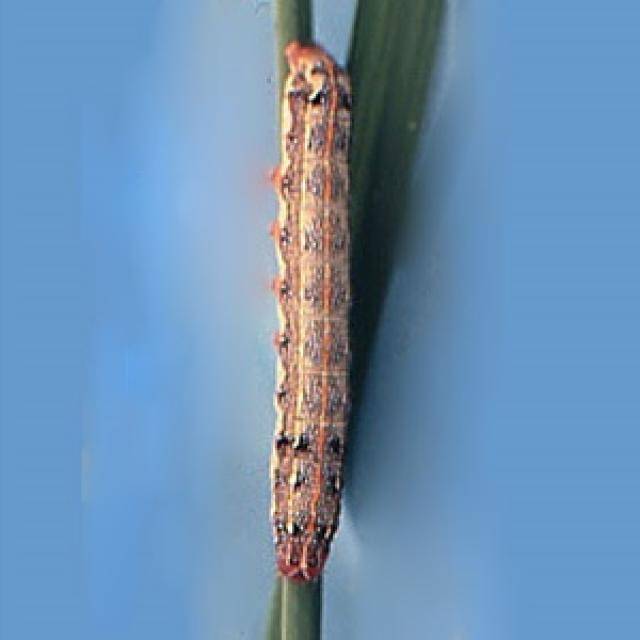Cutworm: (259, 29, 362, 584)
